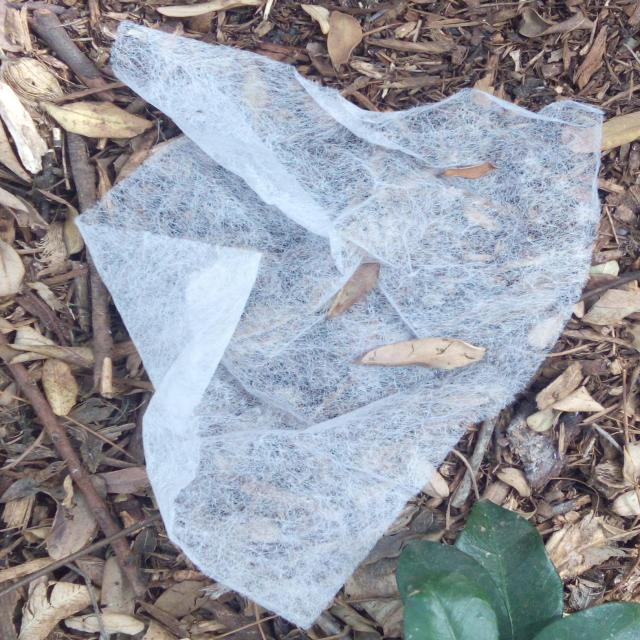litter: (76, 21, 606, 630)
